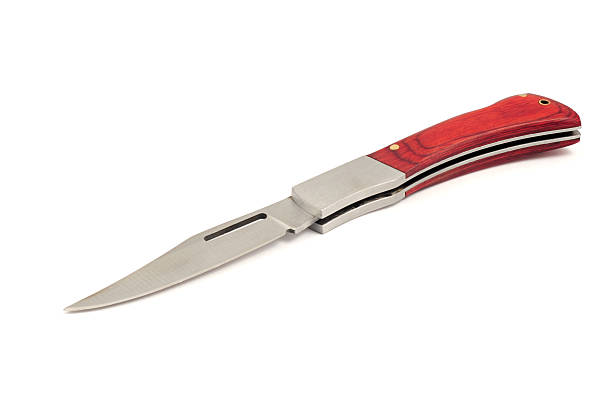knife: (61, 90, 583, 316)
